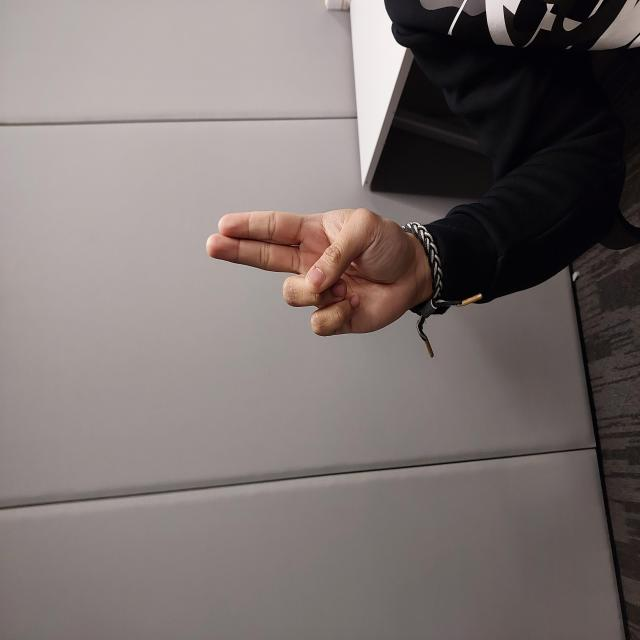U: (302, 204, 434, 418)
